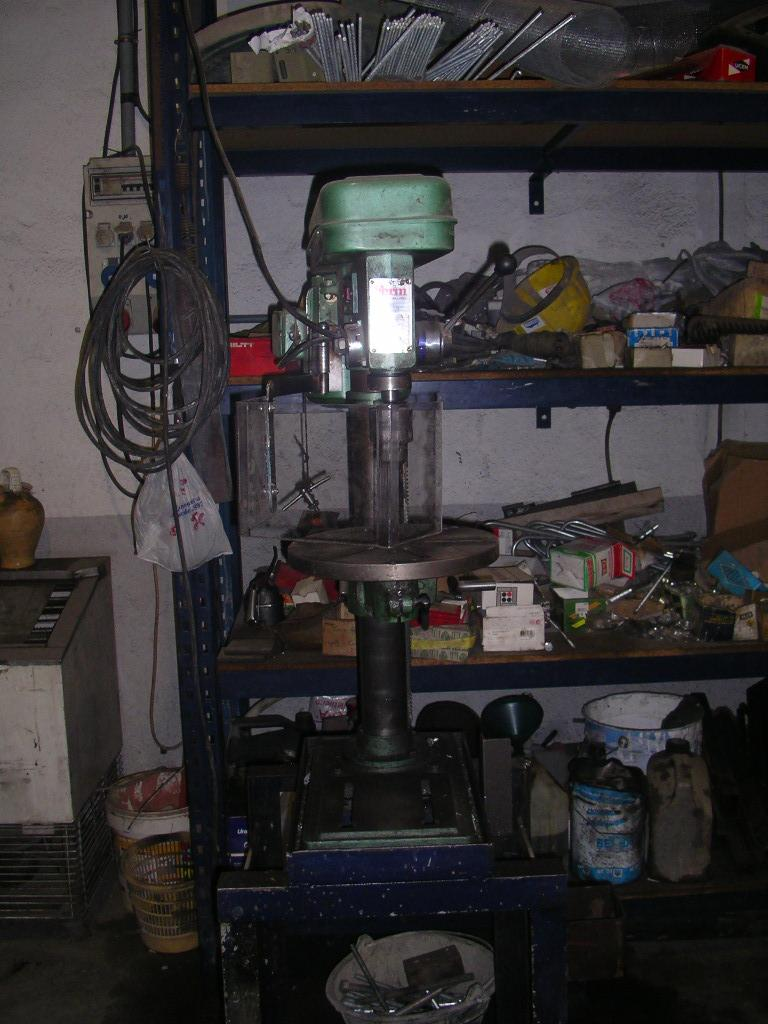mandos_inseguros: (339, 276, 358, 312)
sin_senalizacion_riesgos: (337, 188, 438, 242)
